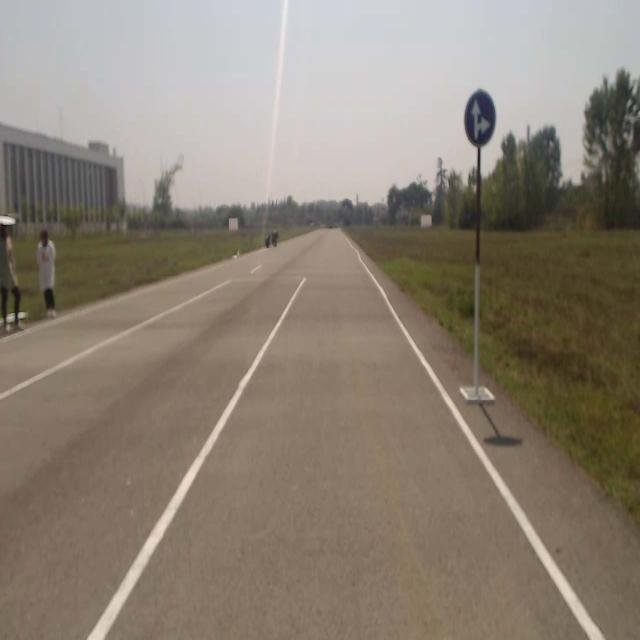ilerisag: (464, 92, 494, 144)
